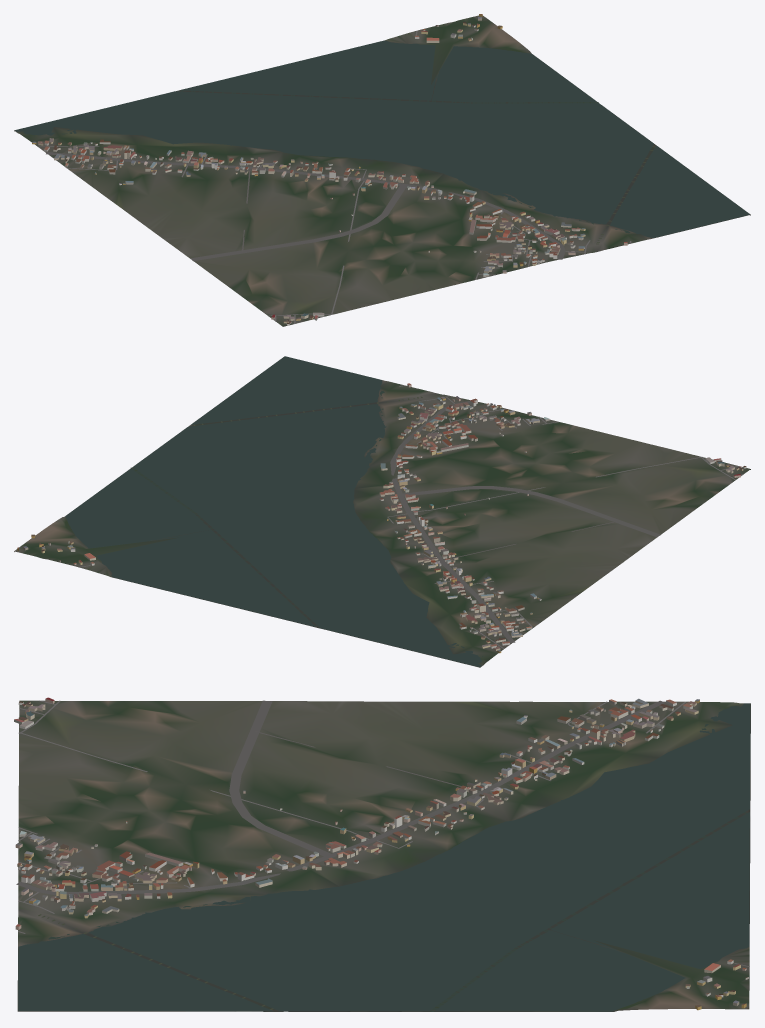
The picture shows the model from 3 angles, top to bottom: view 1: azimuth 30°, elevation 25°; view 2: azimuth 150°, elevation 25°; view 3: azimuth 270°, elevation 25°; orthographic projection. The views are drawn at different scales.
Parts seen in each view (by area): view 1: water, ground, buildings, roads; view 2: water, ground, buildings, roads; view 3: water, ground, buildings, roads.
Part boxes in pixels (x1,y1,x2,y2): water: (15,40,749,244); ground: (14,15,750,326); buildings: (32,14,627,325); roads: (38,30,631,323); water: (65,356,482,666); ground: (14,357,750,667); buildings: (17,383,746,653); roads: (78,385,743,648); water: (18,703,750,1011); ground: (17,700,750,1011); buildings: (14,697,748,1010); roads: (16,700,749,966).
Size of the model in its own units: 1411 by 25.85 by 1412.
